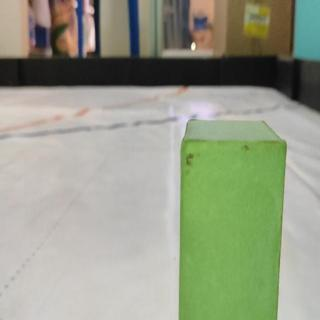greenbox: (177, 115, 289, 320)
